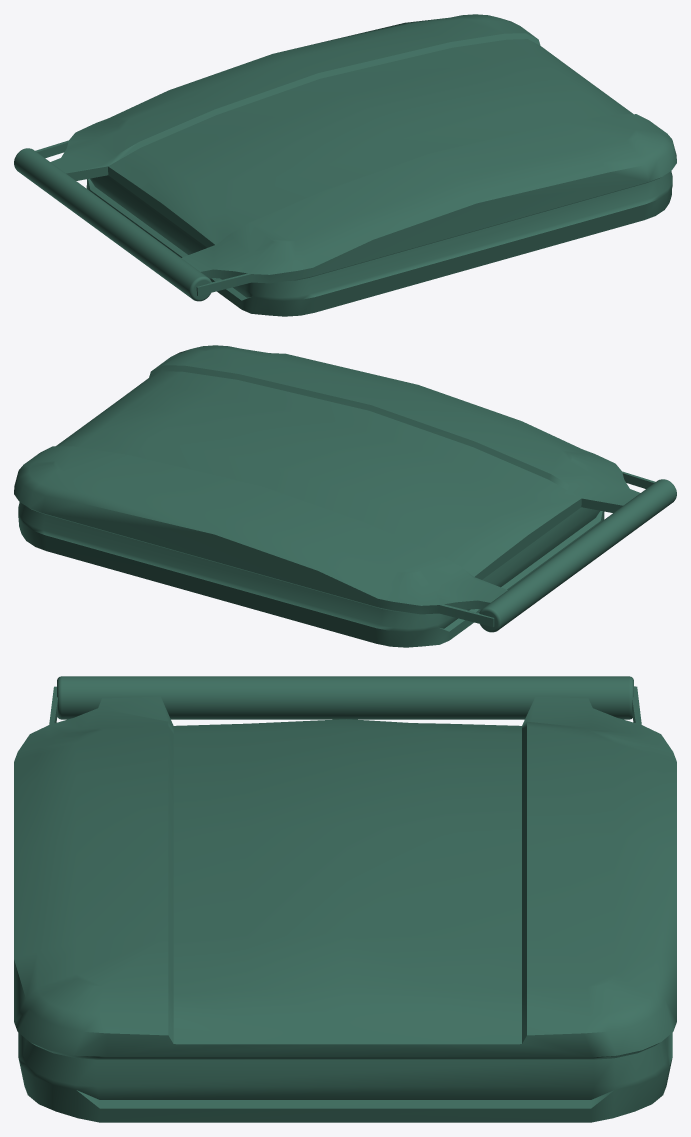
File: Trashcan_top.fbx
3 views of the same model, one above another, from view 1: azimuth 30°, elevation 25°; view 2: azimuth 150°, elevation 25°; view 3: azimuth 270°, elevation 25° (orthographic). The views are drawn at different scales.
Parts seen in each view (by area): view 1: Couvercle_Mat_0; view 2: Couvercle_Mat_0; view 3: Couvercle_Mat_0.
Boxes of the visible parts, bbox=[...] form: Couvercle_Mat_0: bbox=[14, 14, 676, 316]; Couvercle_Mat_0: bbox=[14, 345, 676, 647]; Couvercle_Mat_0: bbox=[14, 676, 676, 1122].
Bounding box in the file's own units: 0.6595 × 0.9218 × 0.1619.
